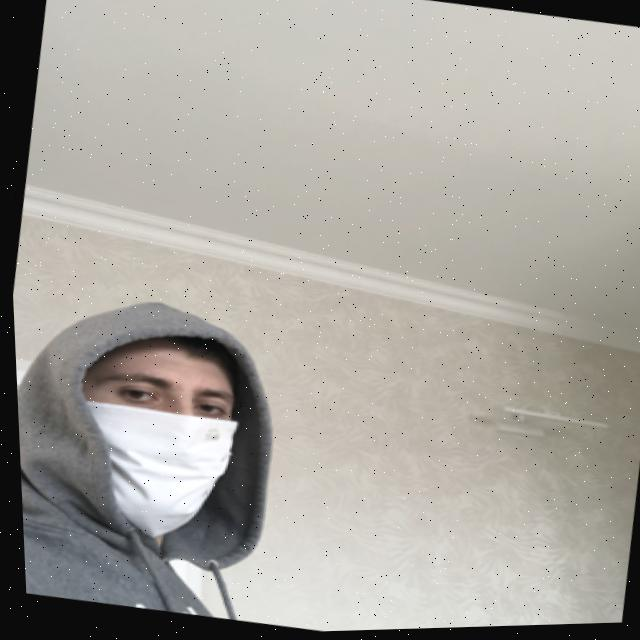Mask: (48, 396, 232, 542)
